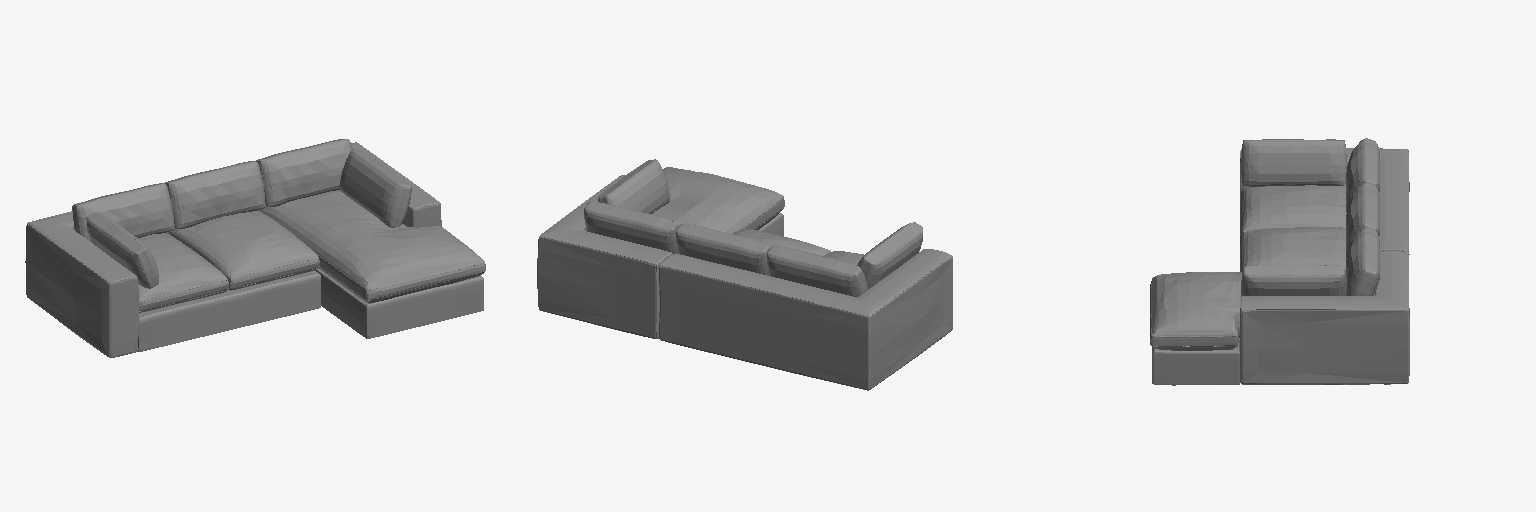
The model's file is sofa.obj.
3 renders of one model, left to right at view 1: azimuth 30°, elevation 25°; view 2: azimuth 150°, elevation 25°; view 3: azimuth 270°, elevation 25°, orthographic.
Parts seen in each view (by area): view 1: sofa; view 2: sofa; view 3: sofa.
Boxes of the visible parts, x1=… form: sofa: x1=25, y1=139, x2=485, y2=357; sofa: x1=537, y1=159, x2=952, y2=390; sofa: x1=1150, y1=138, x2=1409, y2=385.
Bounding box in the file's own units: 2.59 × 0.8 × 1.75.